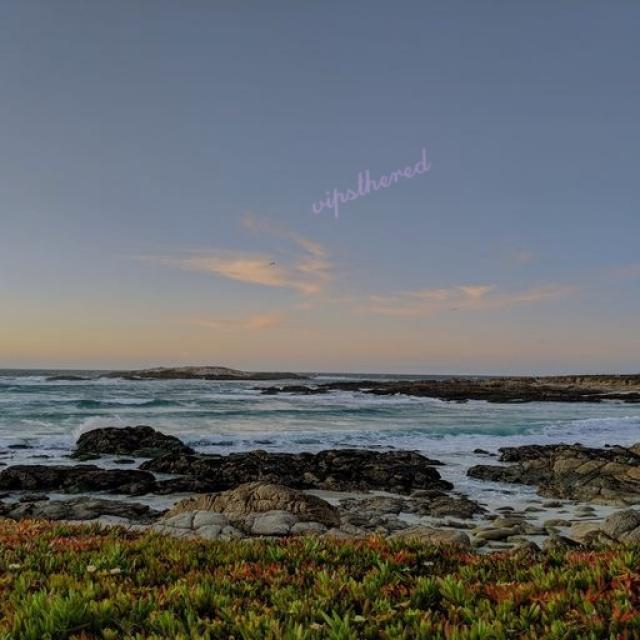watermark: (306, 143, 432, 218)
